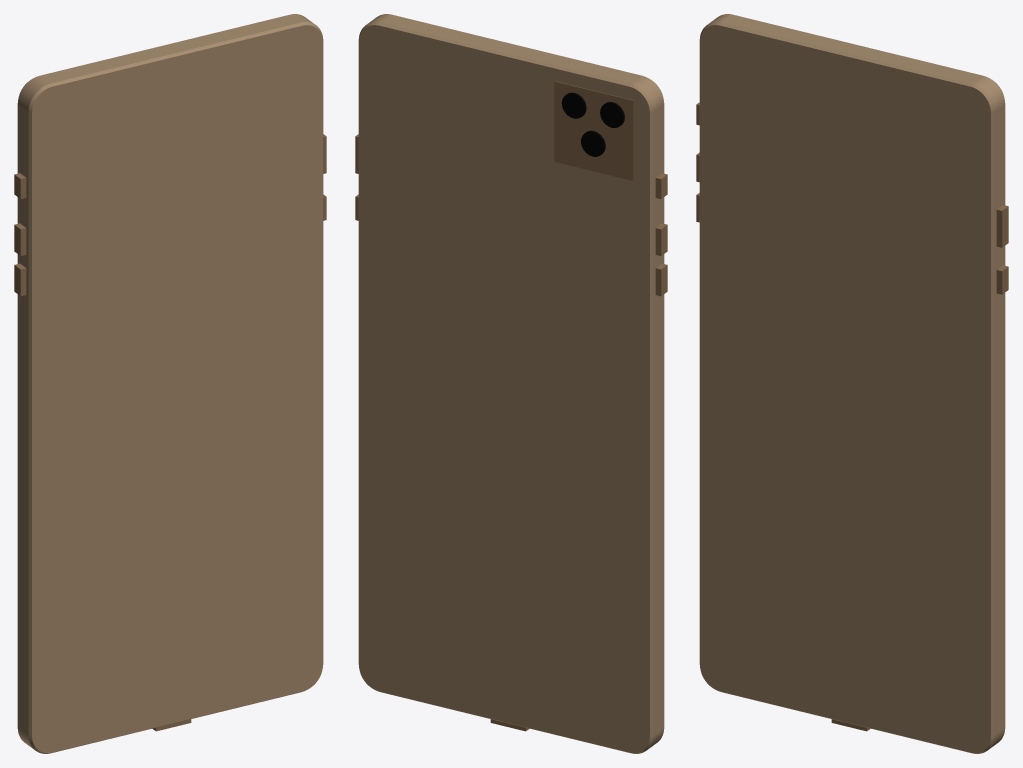
The model's file is apple-iphone-16-pro-max.glb.
3 renders of one model, left to right at view 1: azimuth 30°, elevation 25°; view 2: azimuth 150°, elevation 25°; view 3: azimuth 330°, elevation 25°, orthographic.
Visible parts, largest first — view 1: Body; view 2: Body, CameraIsland; view 3: Body.
Part boxes in pixels (<box>): Body: <box>17,14,323,753</box>; Body: <box>358,14,664,753</box>; CameraIsland: <box>554,81,633,180</box>; Body: <box>699,14,1005,753</box>.
Size of the model in its own units: 0.1142 by 0.2411 by 0.0102.
